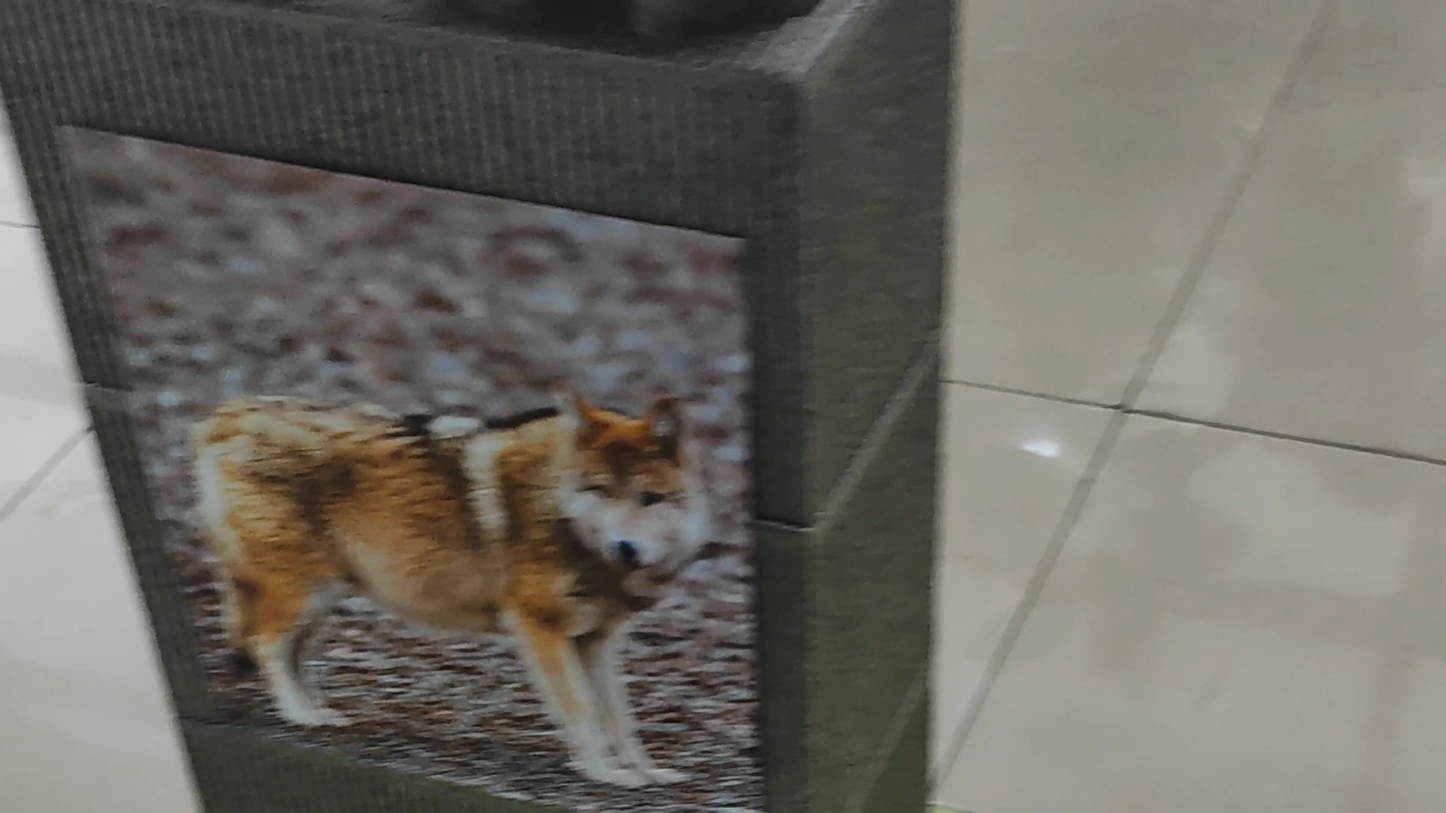wolf: (115, 347, 734, 780)
